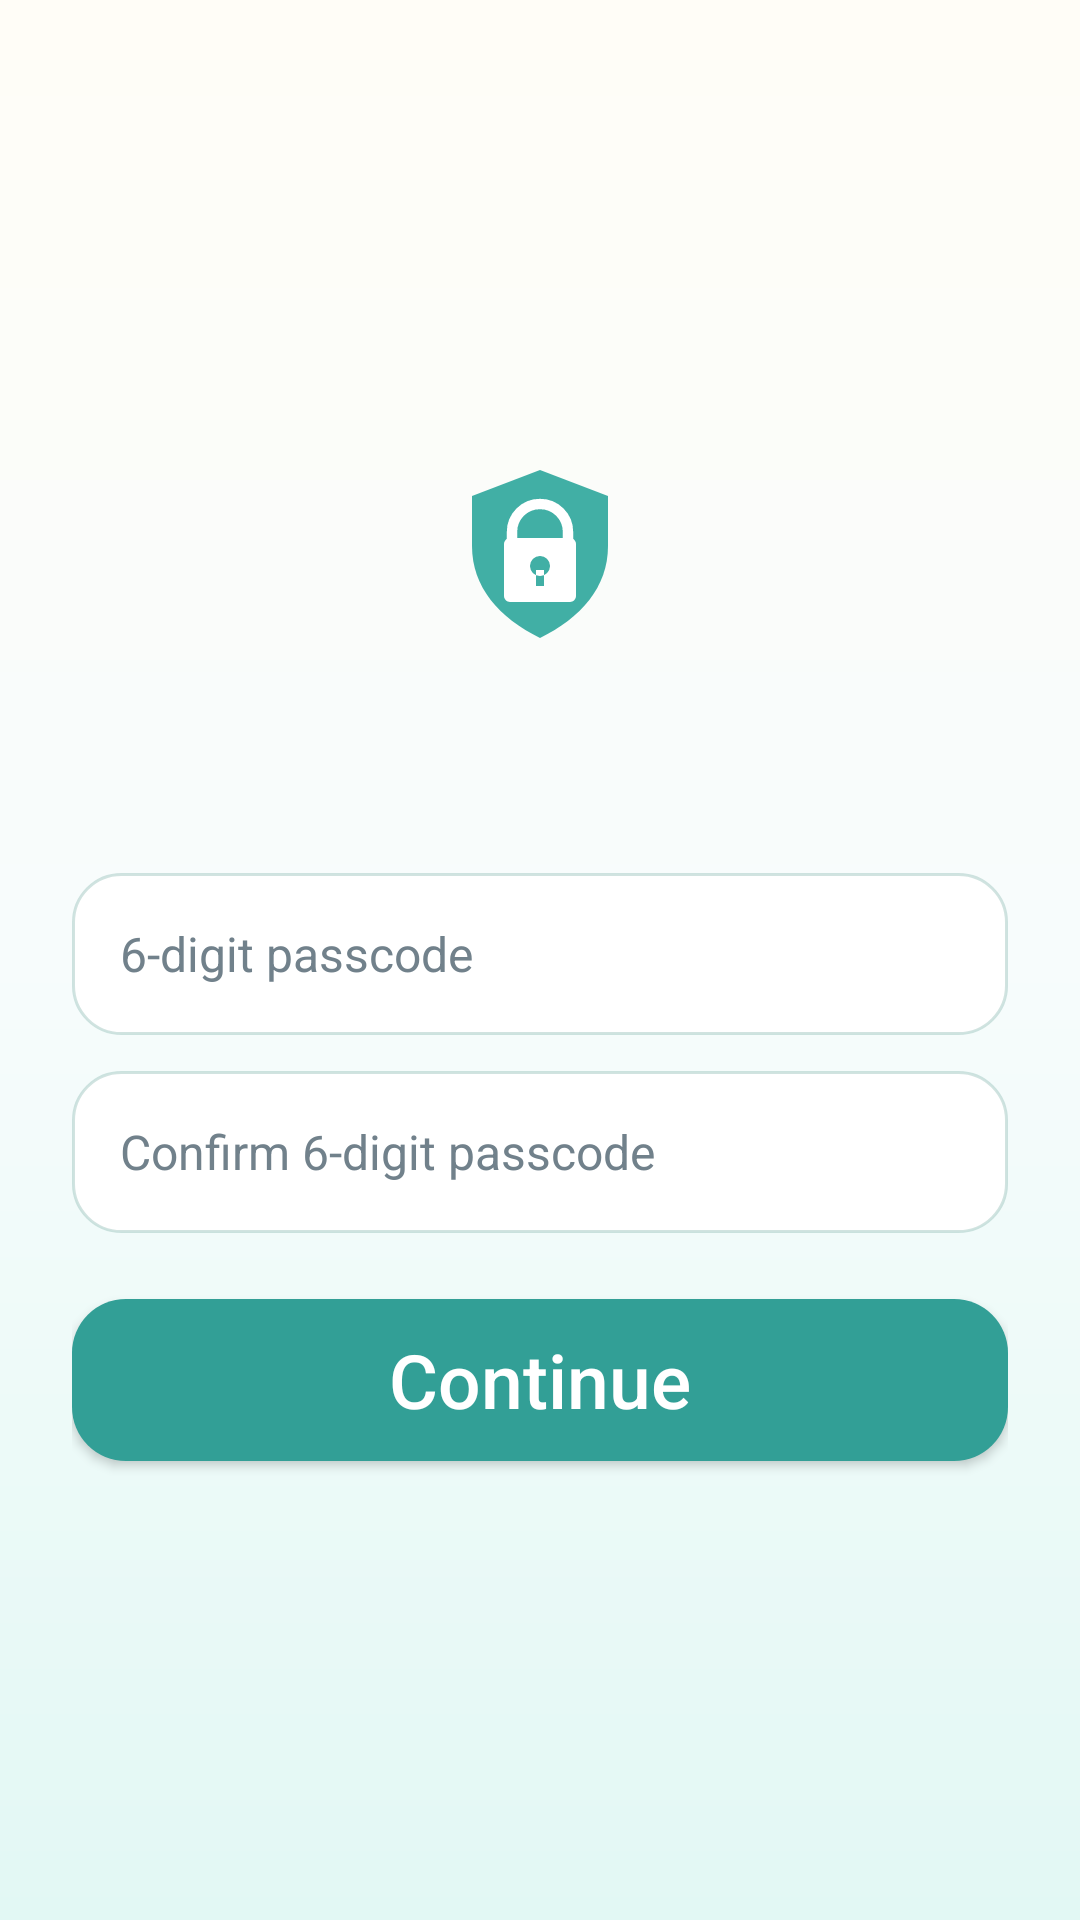

Point at icon controls on the screen. Image size 1080×1920, points as (x,y).
vault lock: (540,554)
